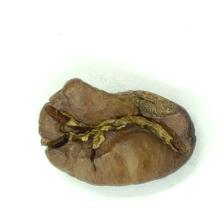NG: (44, 103, 182, 168)
